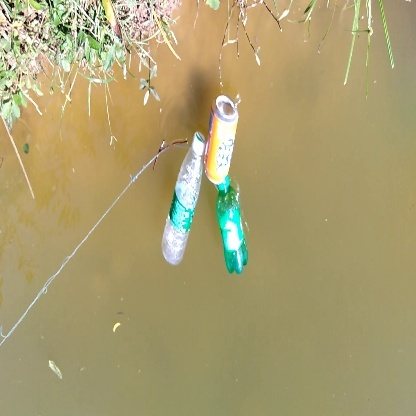bottle: (157, 135, 216, 267), (207, 94, 242, 186)
